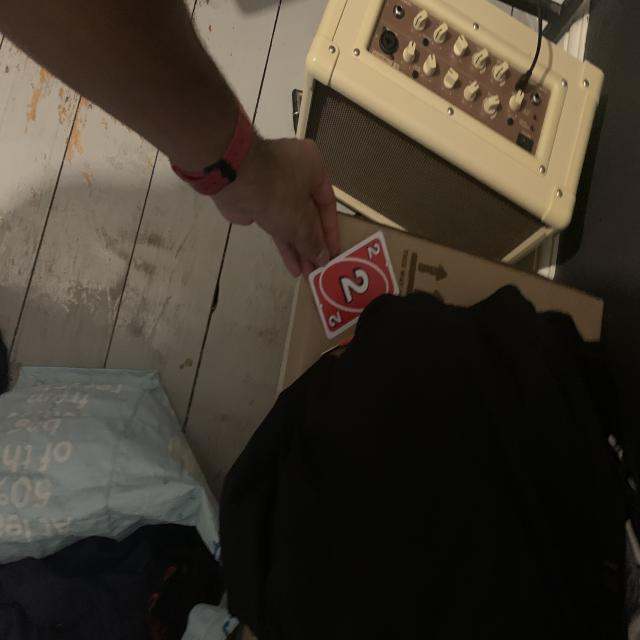lred-2: (367, 238, 382, 262)
